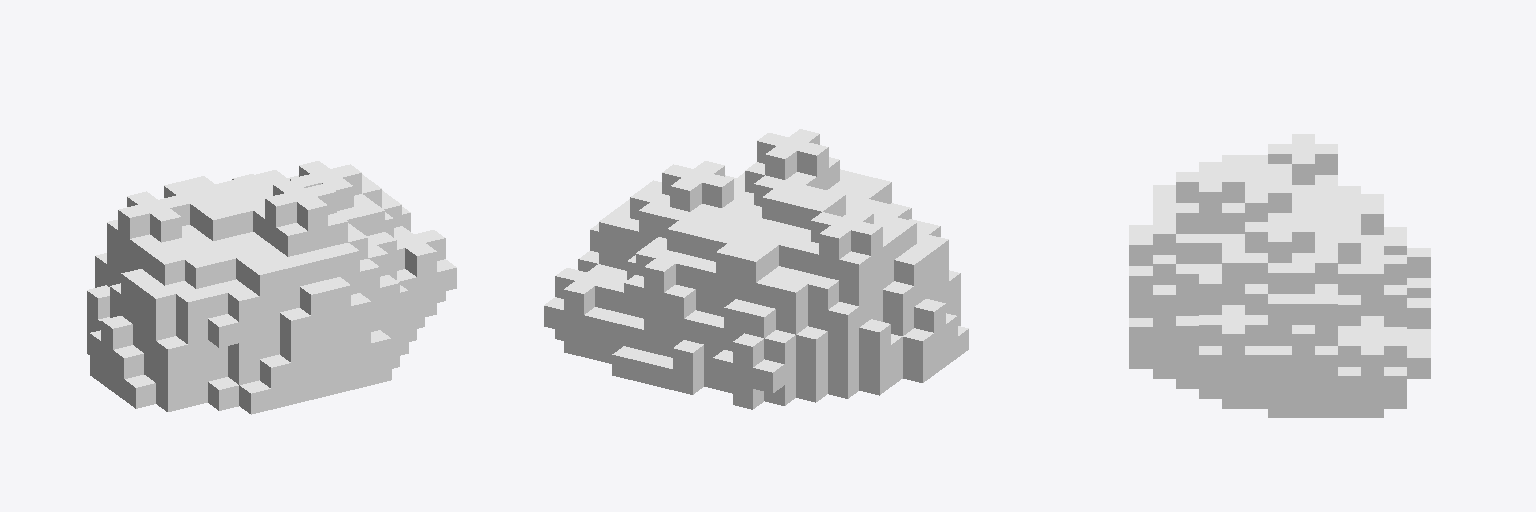
Rendered from ObsidianDeposit_L.obj.
3 renders of one model, left to right at view 1: azimuth 30°, elevation 25°; view 2: azimuth 150°, elevation 25°; view 3: azimuth 270°, elevation 25°, orthographic.
Parts seen in each view (by area): view 1: ObsidianDeposit_L; view 2: ObsidianDeposit_L; view 3: ObsidianDeposit_L.
Part boxes in pixels (left/top/right/bottom): ObsidianDeposit_L: left=87, top=161, right=456, bottom=414; ObsidianDeposit_L: left=544, top=129, right=968, bottom=409; ObsidianDeposit_L: left=1129, top=134, right=1430, bottom=417.
Bounding box in the file's own units: 1.6 × 0.8 × 1.3.